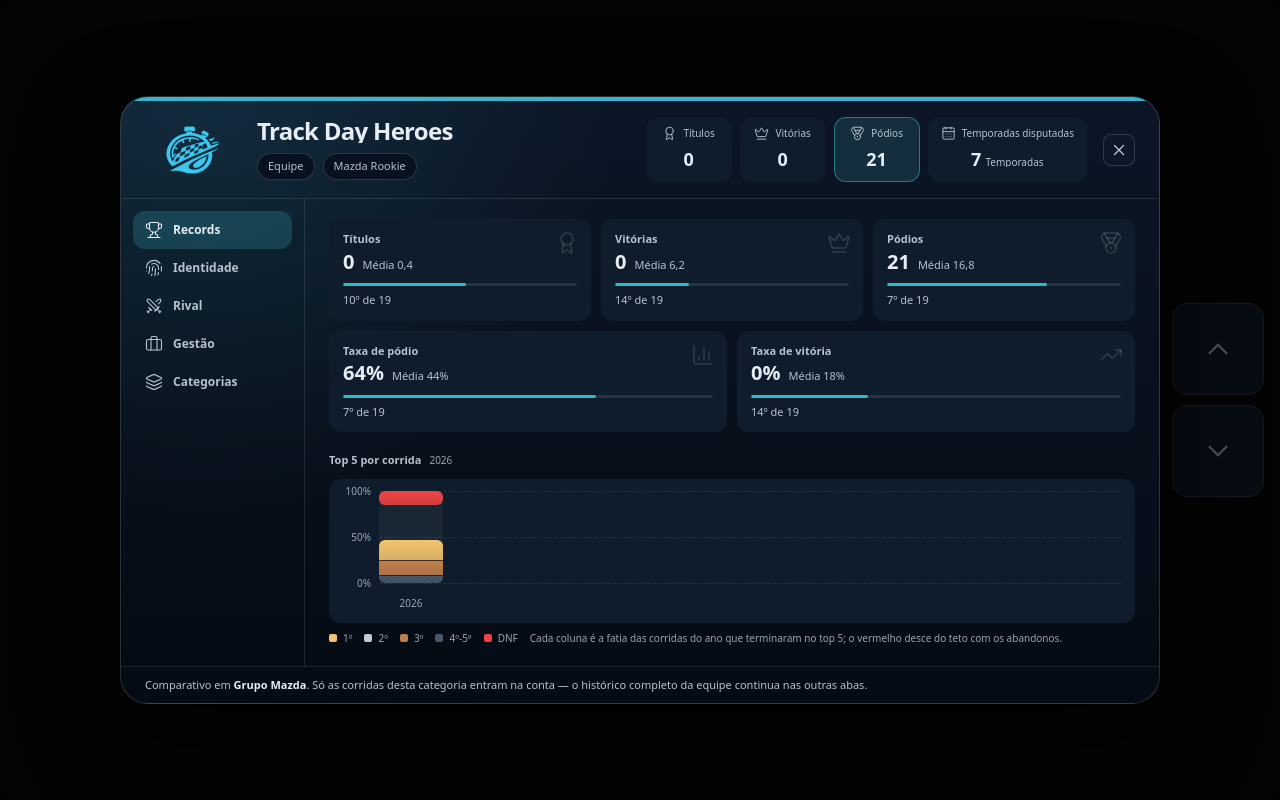
Test: TeamHistoryDrawerV2 — pódios por corrida › abre o balão do app no hover da coluna, com a cor de cada colocação
Hover over the element named "2026": (411,536) x1=379 y1=490 x2=443 y2=582
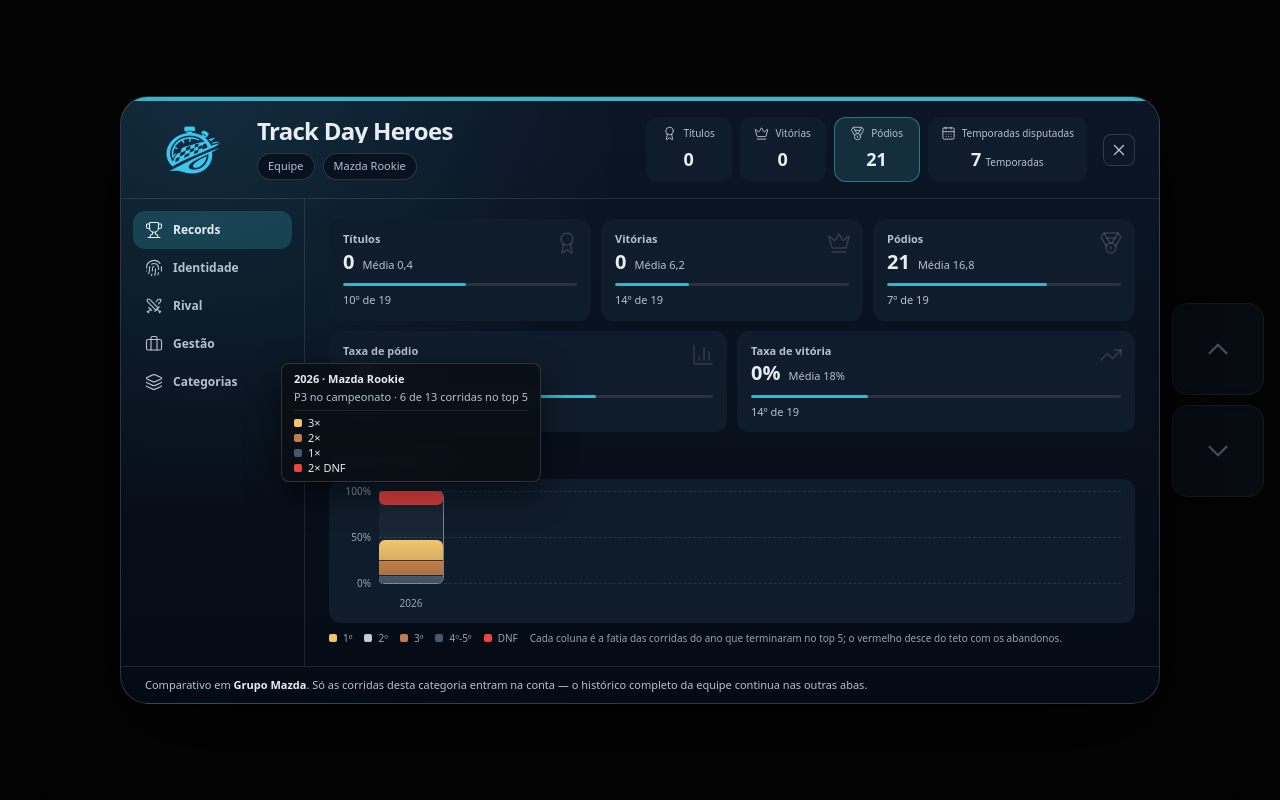
Expected: the text "2026 · Mazda Rookie" is shown, x1=294 y1=370 x2=404 y2=386
Expected: the text "P3 no campeonato · 6 de 13 corridas no top 5" is shown, x1=294 y1=389 x2=528 y2=404
Move the pointer off the element named "2026", box x1=379 y1=490 x2=443 y2=582
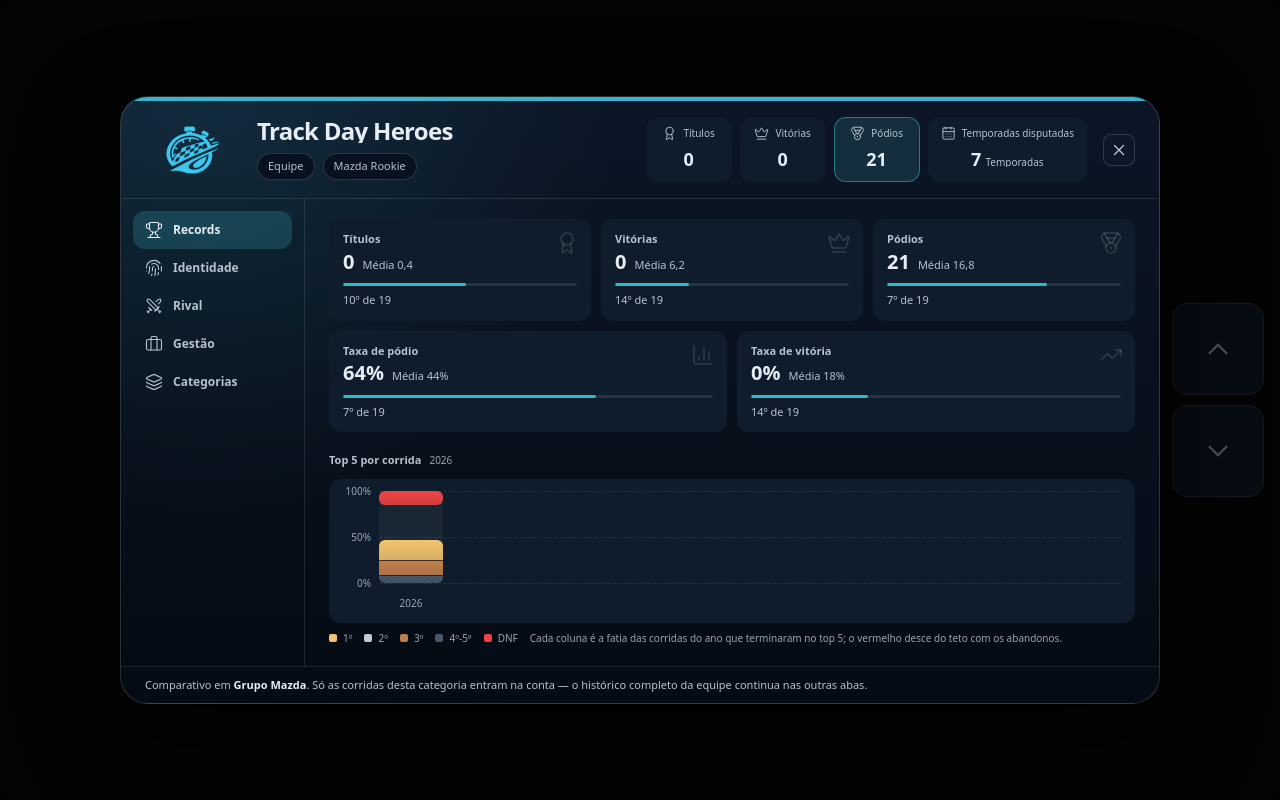
Expected: the element with test id "team-history-trajectory-tooltip" is gone
